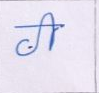i_matra: (43, 12, 58, 50)
